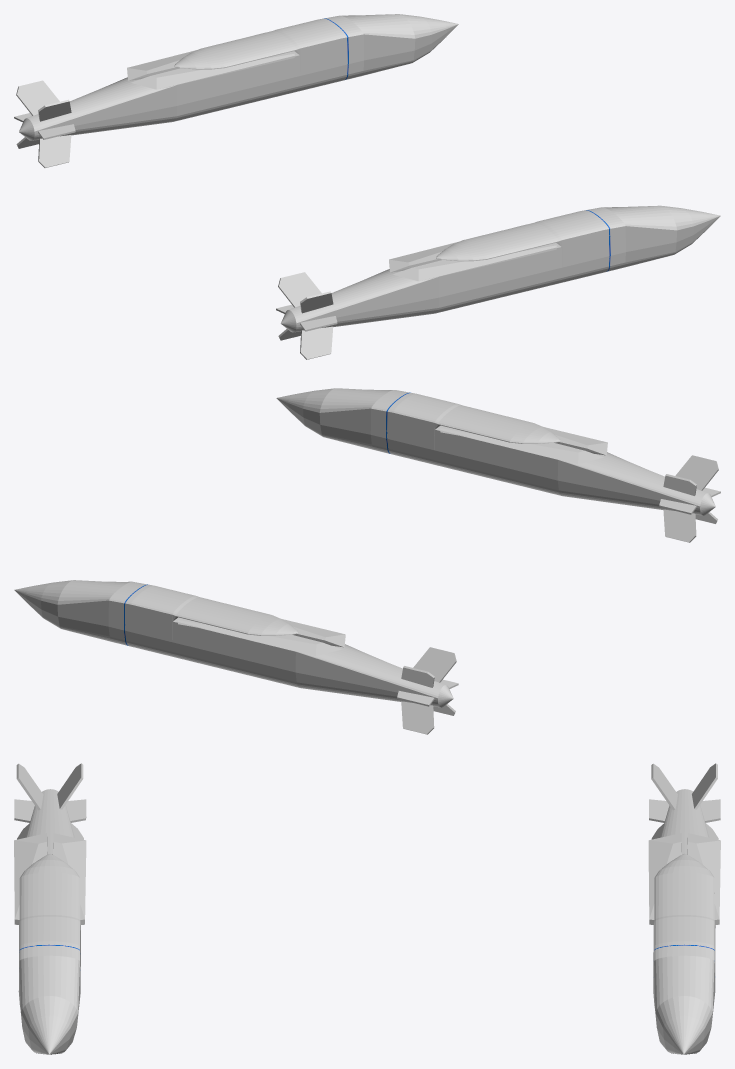
The model's file is fa18fagm15424.glb.
3 renders of one model, top to bottom at view 1: azimuth 30°, elevation 25°; view 2: azimuth 150°, elevation 25°; view 3: azimuth 270°, elevation 25°, orthographic. The views are drawn at different scales.
Visible parts, largest first — view 1: 立方体.049, 立方体.004; view 2: 立方体.049, 立方体.004; view 3: 立方体.049, 立方体.004.
Part boxes in pixels (x1,y1,x2,y2): 立方体.049: (14, 14, 458, 167); 立方体.004: (276, 205, 720, 359); 立方体.049: (14, 580, 458, 734); 立方体.004: (276, 388, 720, 542); 立方体.049: (648, 763, 720, 1054); 立方体.004: (14, 763, 86, 1054).
Size of the model in its own units: 5.26 by 0.7224 by 6.04.
5 materials, 1 textured.
